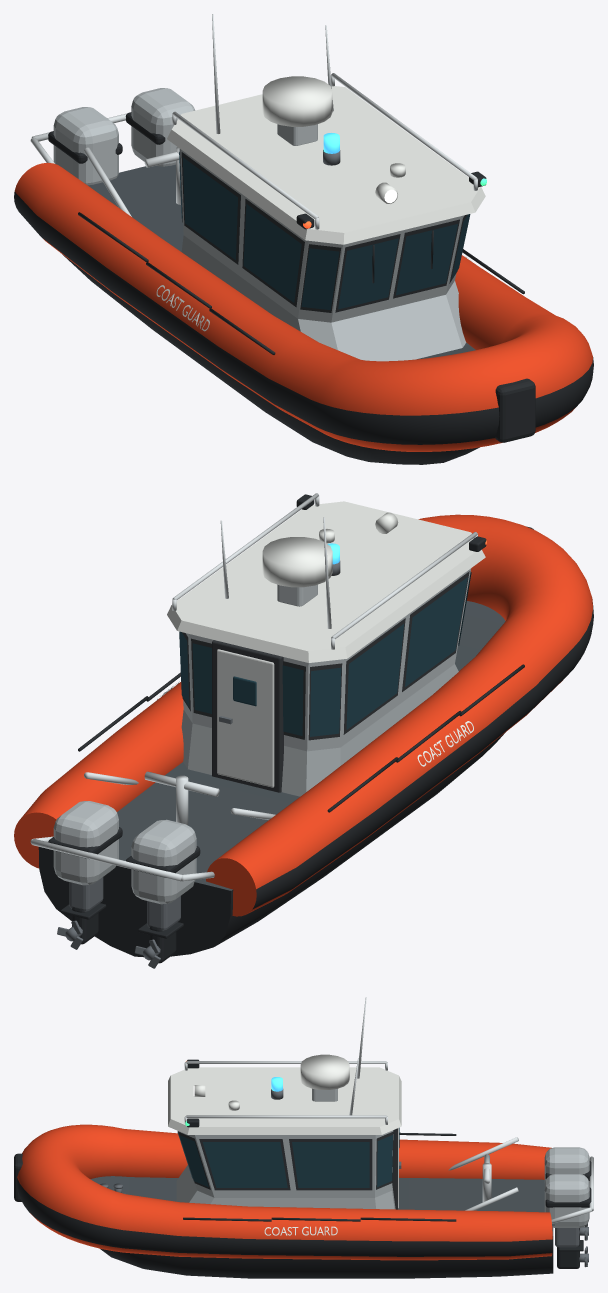
Rendered from response_boat_small.glb.
The picture shows the model from 3 angles, top to bottom: view 1: azimuth 30°, elevation 25°; view 2: azimuth 150°, elevation 25°; view 3: azimuth 270°, elevation 25°; orthographic projection. The views are drawn at different scales.
Parts seen in each view (by area): view 1: response_boat_small; view 2: response_boat_small; view 3: response_boat_small.
Part boxes in pixels (left/top/right/bottom): response_boat_small: left=14, top=14, right=593, bottom=464; response_boat_small: left=14, top=493, right=593, bottom=968; response_boat_small: left=14, top=997, right=593, bottom=1278.
Size of the model in its own units: 3.2 by 4.09 by 8.48.
